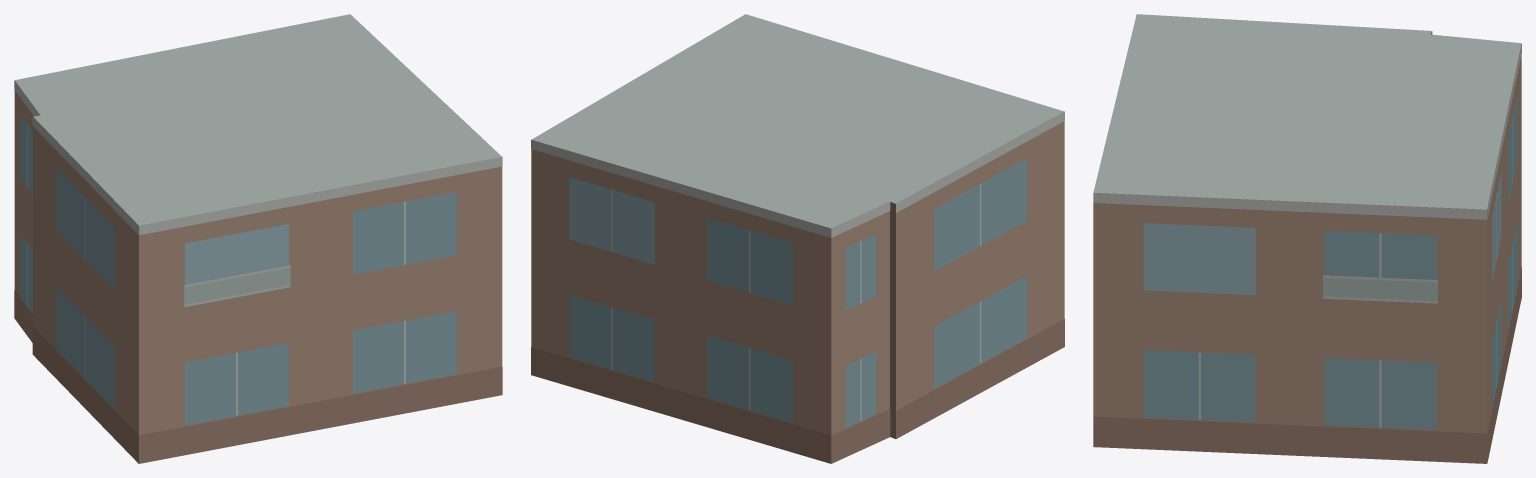
File: survey-upis-32459300.glb
The picture shows the model from 3 angles, left to right: view 1: azimuth 30°, elevation 25°; view 2: azimuth 150°, elevation 25°; view 3: azimuth 270°, elevation 25°; orthographic projection. The views are drawn at different scales.
Parts seen in each view (by area): view 1: survey-upis-32459300.tmp; view 2: survey-upis-32459300.tmp; view 3: survey-upis-32459300.tmp.
Part boxes in pixels (x1=…): survey-upis-32459300.tmp: x1=14, y1=14, x2=502, y2=463; survey-upis-32459300.tmp: x1=531, y1=14, x2=1064, y2=463; survey-upis-32459300.tmp: x1=1093, y1=14, x2=1521, y2=463.
Bounding box in the file's own units: 10.08 × 6.1 × 9.33.
